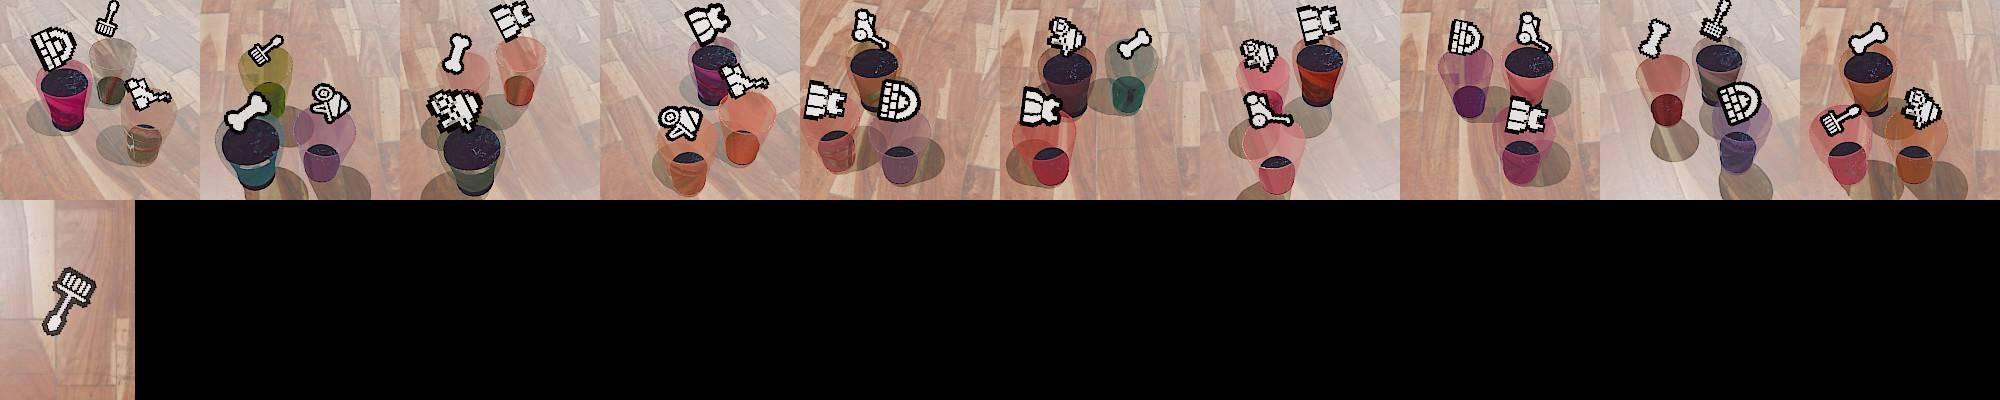icon: (40, 266, 96, 338), (426, 88, 482, 131), (29, 25, 78, 73), (223, 89, 272, 132), (1717, 80, 1761, 125), (684, 1, 730, 45), (876, 79, 922, 122), (1244, 89, 1293, 129), (802, 79, 848, 121), (1019, 85, 1065, 127), (490, 0, 536, 42), (1295, 3, 1342, 43), (657, 102, 704, 141), (1901, 87, 1943, 130), (307, 82, 351, 124), (719, 64, 772, 98), (124, 75, 173, 111), (1505, 96, 1548, 134), (1638, 17, 1673, 60), (1047, 15, 1085, 55), (1849, 22, 1892, 57), (1515, 11, 1551, 52), (1820, 103, 1864, 136), (1699, 0, 1732, 42), (440, 32, 472, 75), (1241, 38, 1279, 74), (1448, 18, 1483, 56), (1115, 27, 1153, 60), (247, 34, 284, 68), (851, 6, 880, 45), (94, 1, 120, 39)
